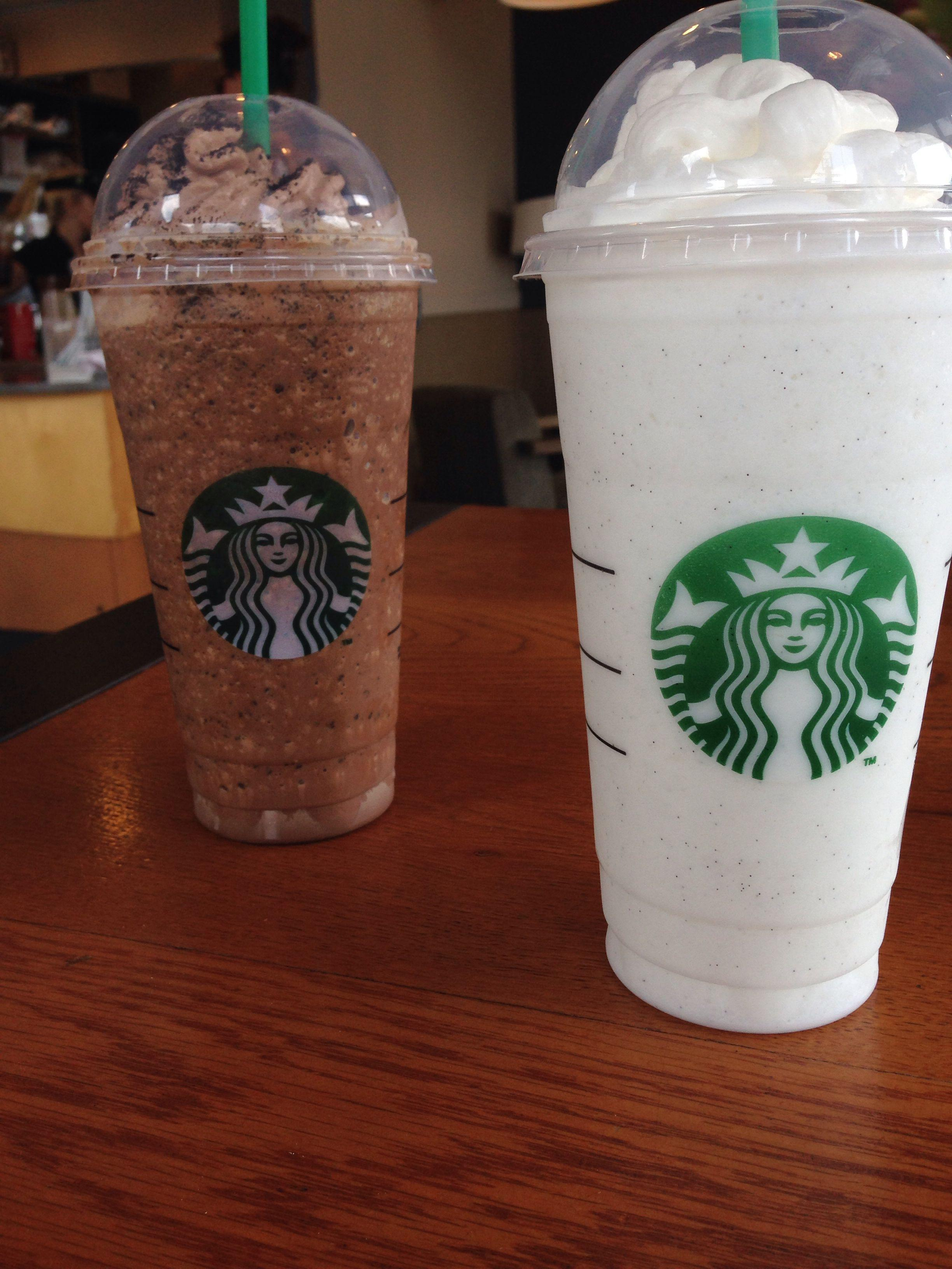cup-disposable: (515, 0, 952, 1046), (69, 89, 437, 851)
